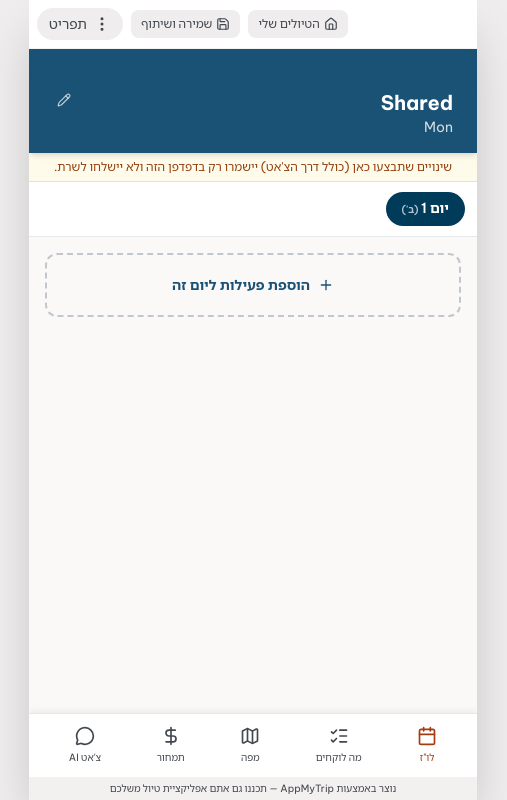
Scenario: SharedAppPage › shows settings and lets a visitor save to their account
The width and height of the screenshot is (507, 800).
Click the button "שמירה ושיתוף".
click(186, 24)  # box x1=131 y1=10 x2=240 y2=38
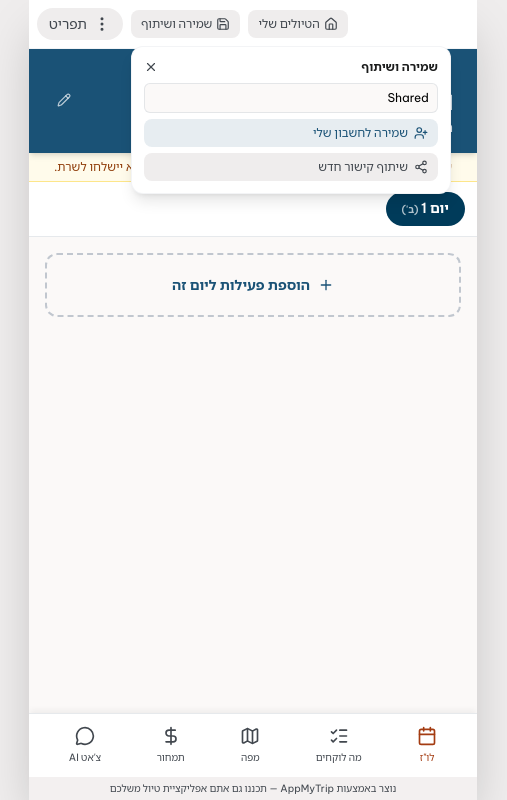
Click the button "שמירה לחשבון שלי".
click(360, 132)  # box x1=144 y1=119 x2=438 y2=147
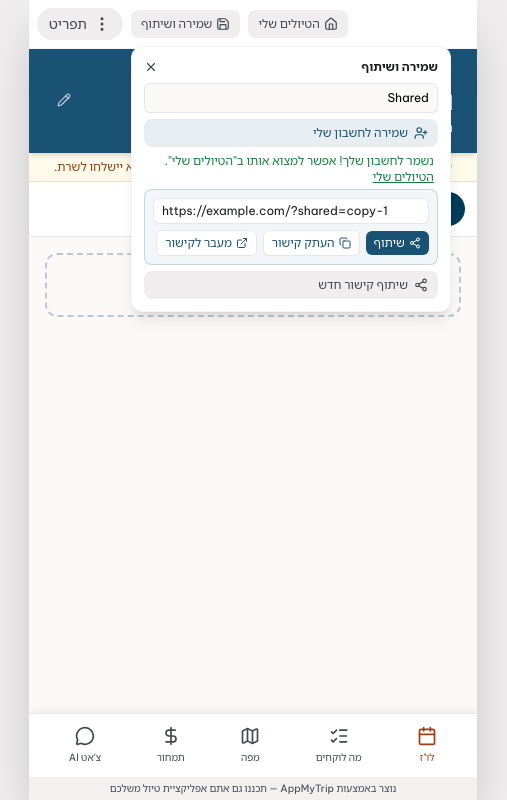
Expected: the text "https://example.com/?shared=copy-1" is shown, x1=153 y1=198 x2=429 y2=224
